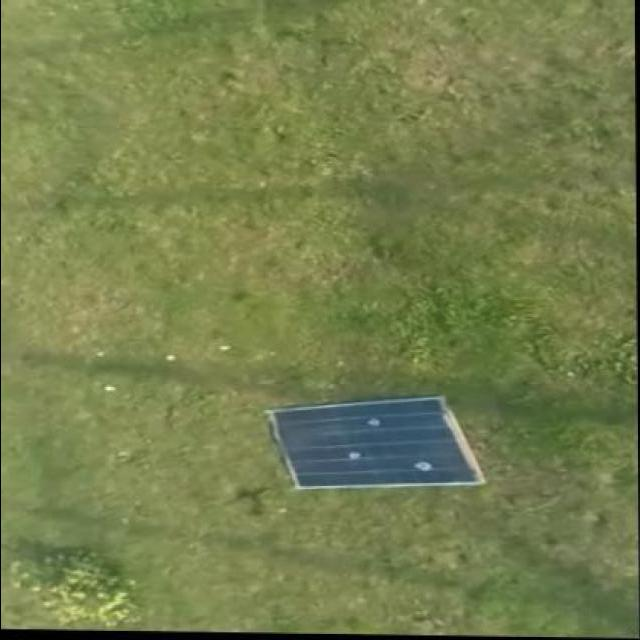soiled: (264, 392, 488, 496)
